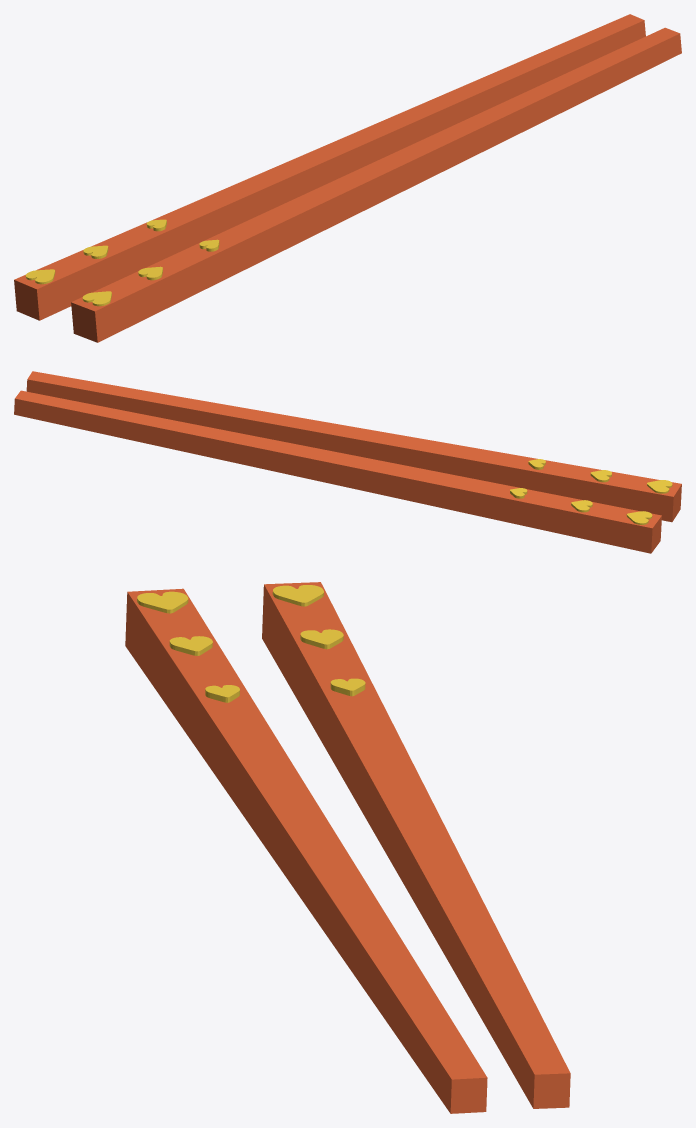
File: stick.fbx
3 views of the same model, one above another, from view 1: azimuth 30°, elevation 25°; view 2: azimuth 150°, elevation 25°; view 3: azimuth 270°, elevation 25° (orthographic). The views are drawn at different scales.
Visible parts, largest first — view 1: stick; view 2: stick; view 3: stick.
Boxes of the visible parts, <box> form: stick: <box>14,14,681,342</box>; stick: <box>14,371,681,553</box>; stick: <box>125,582,570,1113</box>.
Bounding box in the file's own units: 590 × 61.38 × 193.
